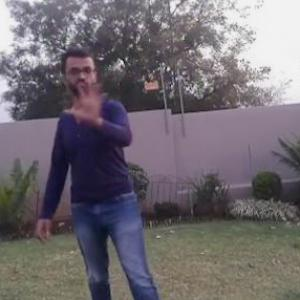follow_hand: (65, 76, 109, 121)
